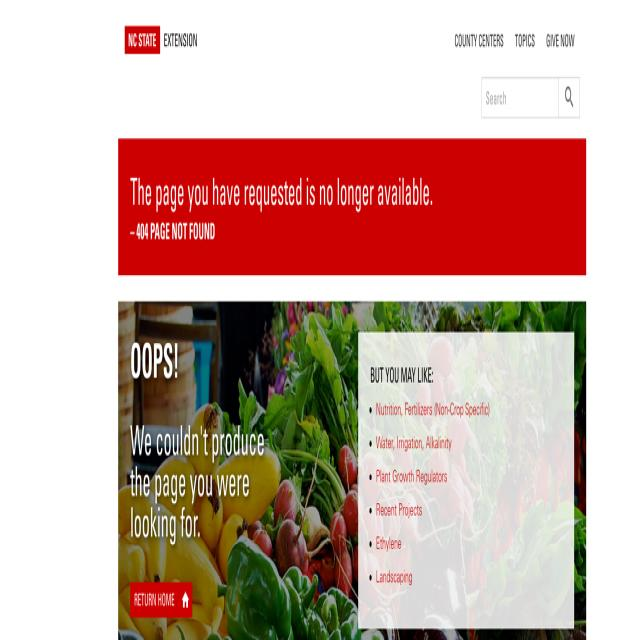button: (449, 20, 509, 61), (130, 582, 192, 618), (124, 26, 202, 54), (540, 20, 580, 61), (510, 20, 540, 61), (558, 77, 580, 118)
field: (482, 77, 559, 118)
